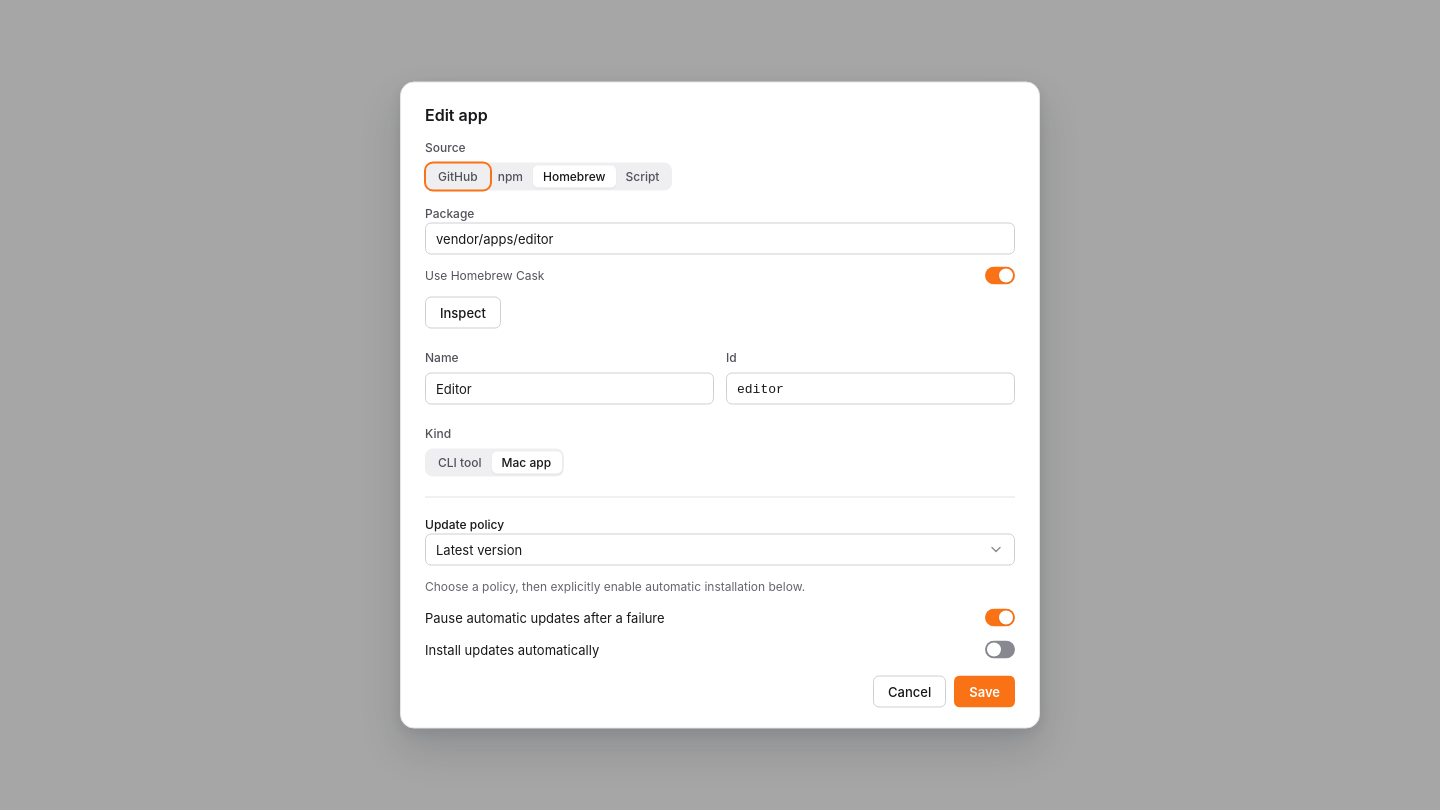
Test: never fetches matches while editing a brew app
Step 1. Click the button "Inspect" → (463, 312), box 425,296 -> 501,328
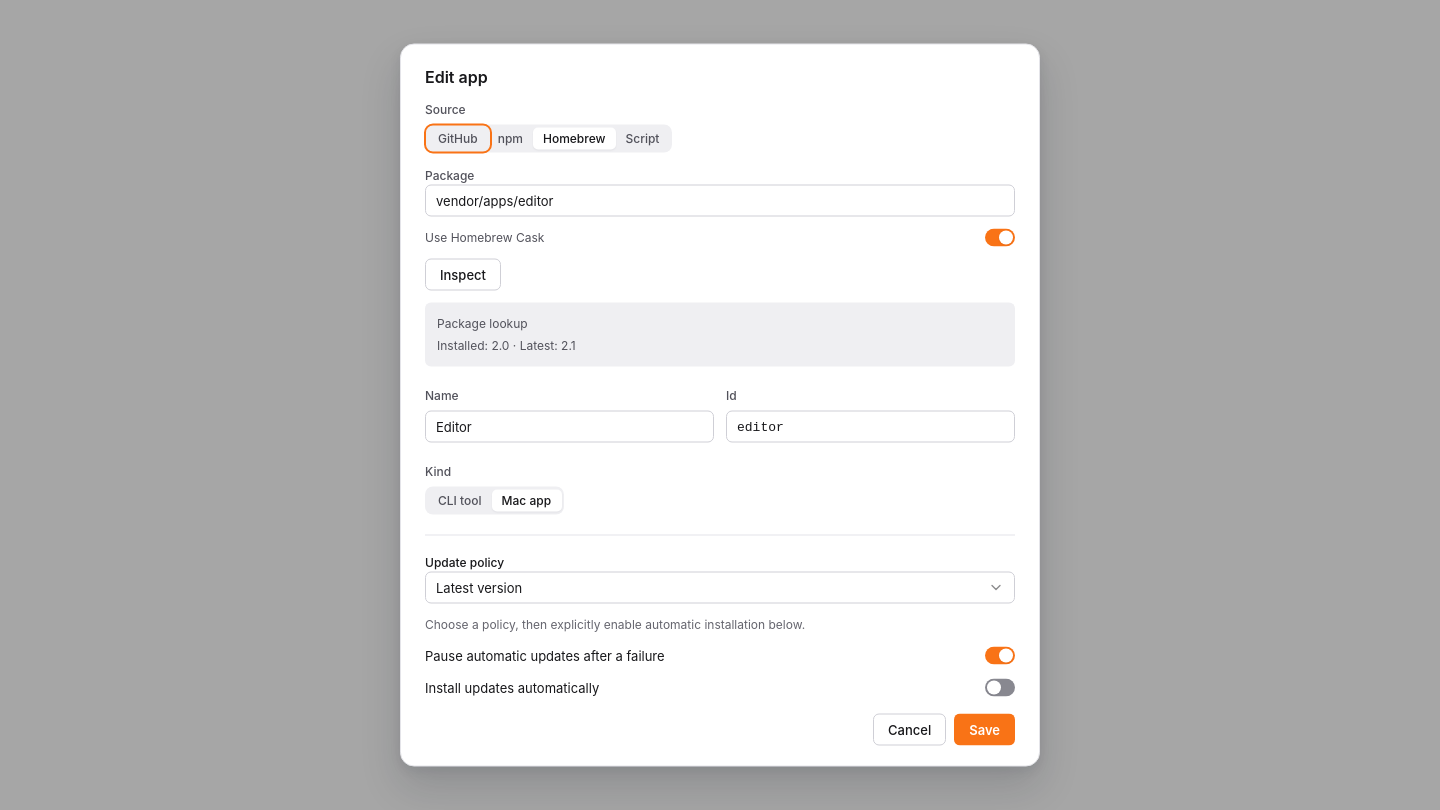
Now the text "Package lookup" is shown, box 437,316 -> 528,330
